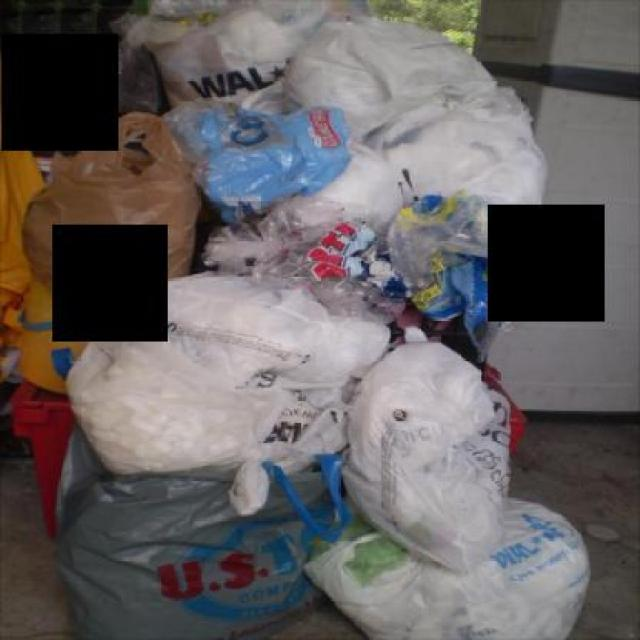plastic bag: (16, 0, 589, 638)
